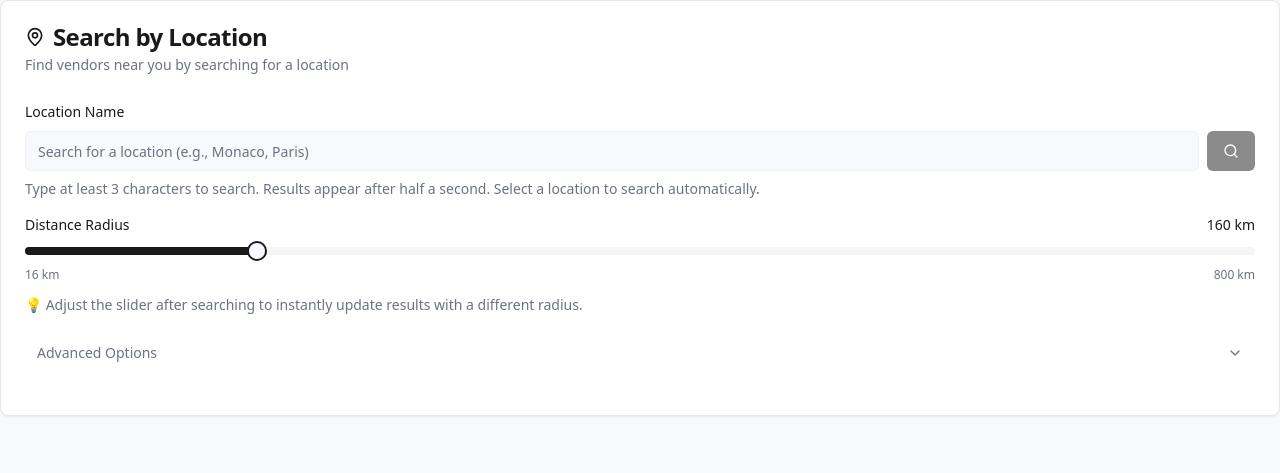
Test: LocationSearchFilter › Reset Functionality › should clear all inputs when reset is clicked
This screenshot has width=1280, height=473.
Type "Monaco" into the field labelled "Location Name".
click(612, 151); type("Monaco")  # box [25, 131, 1199, 171]
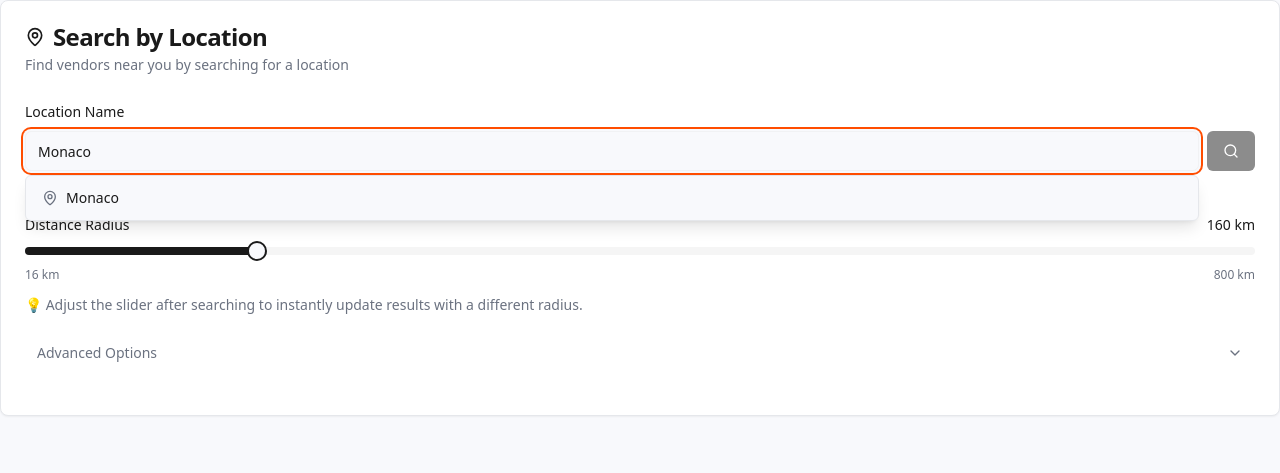
Check: the list with test id "location-results-dropdown" is shown
Click the option "Monaco".
click(92, 198)  # box [26, 176, 1198, 220]
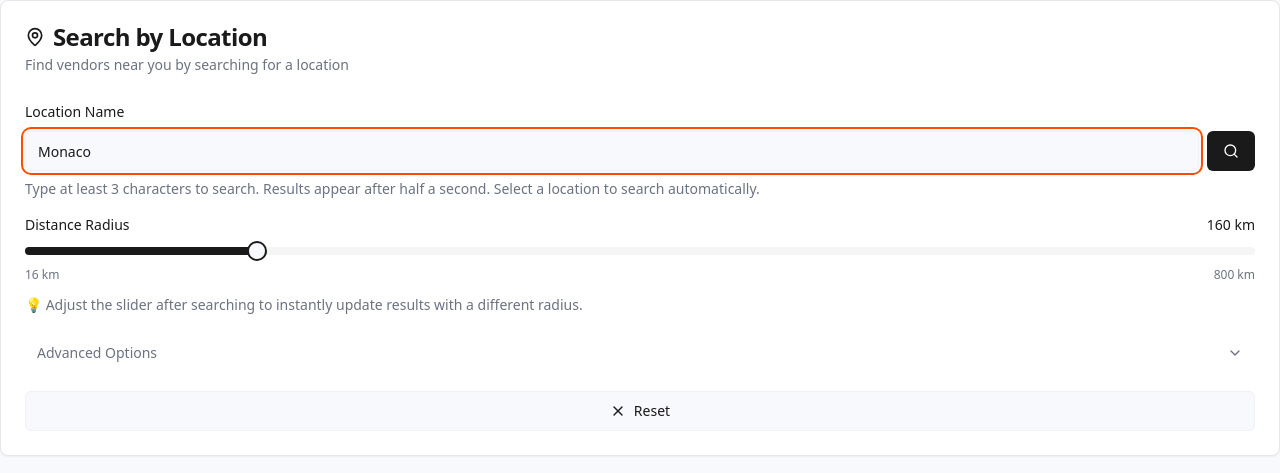
Check: the button "Reset" is shown
Click the button "Reset".
click(640, 411)  # box [25, 391, 1255, 431]
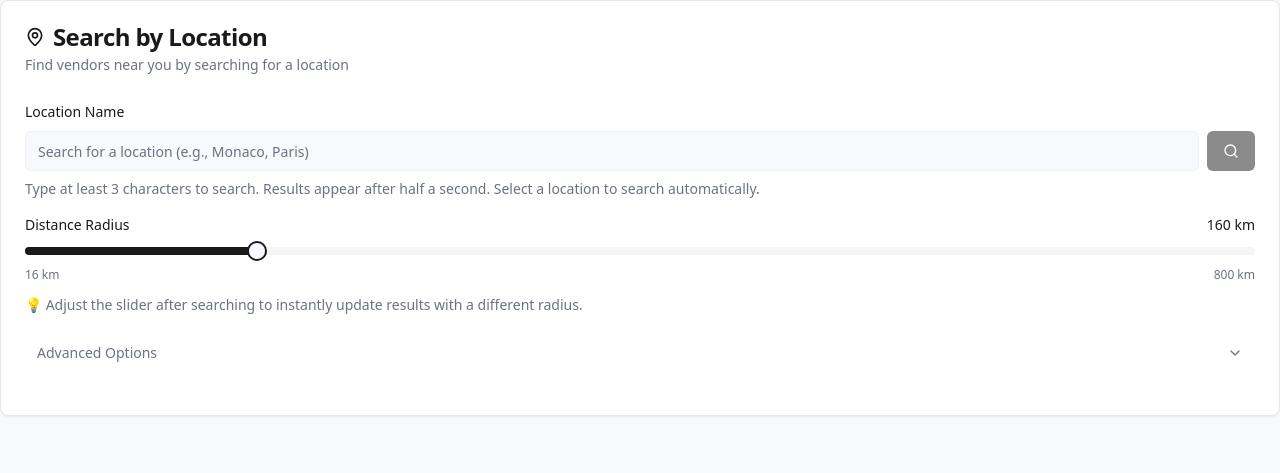
Check: the field labelled "Location Name" is empty, box [25, 131, 1199, 171]
